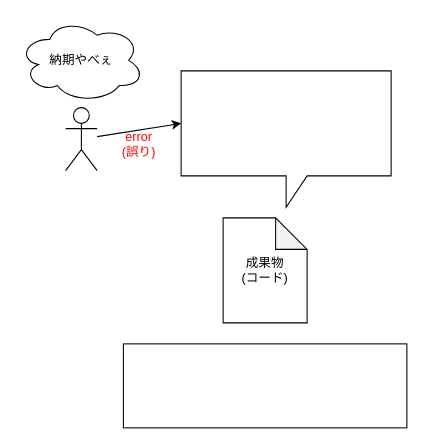
The diagram is 425 pixels wide and 446 high, and some of its shapes have lost their labels. Each missing label, with the box of its shape:
a = 3, b = 2 のとき 5になるはず: 「期待結果」 期待と異なる1を得る: 「故障」 (failure): (122, 343, 407, 428)
欠陥(fault, bug) function add (a,b) { return a - b; }: (180, 70, 391, 207)
